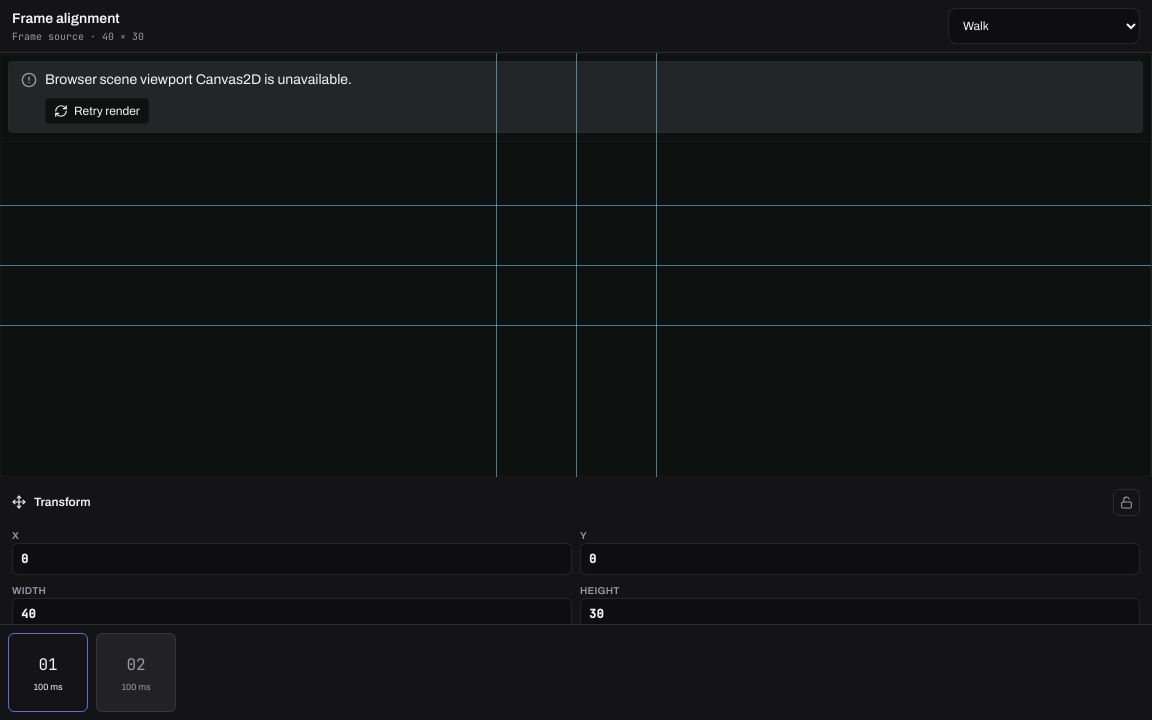
Scenario: AnimateFrameWorkspace › locks transform controls while keeping unlock available
This screenshot has width=1152, height=720.
Click the button named "Lock frame" at (1126, 502), box left=1113, top=488, right=1140, bottom=516
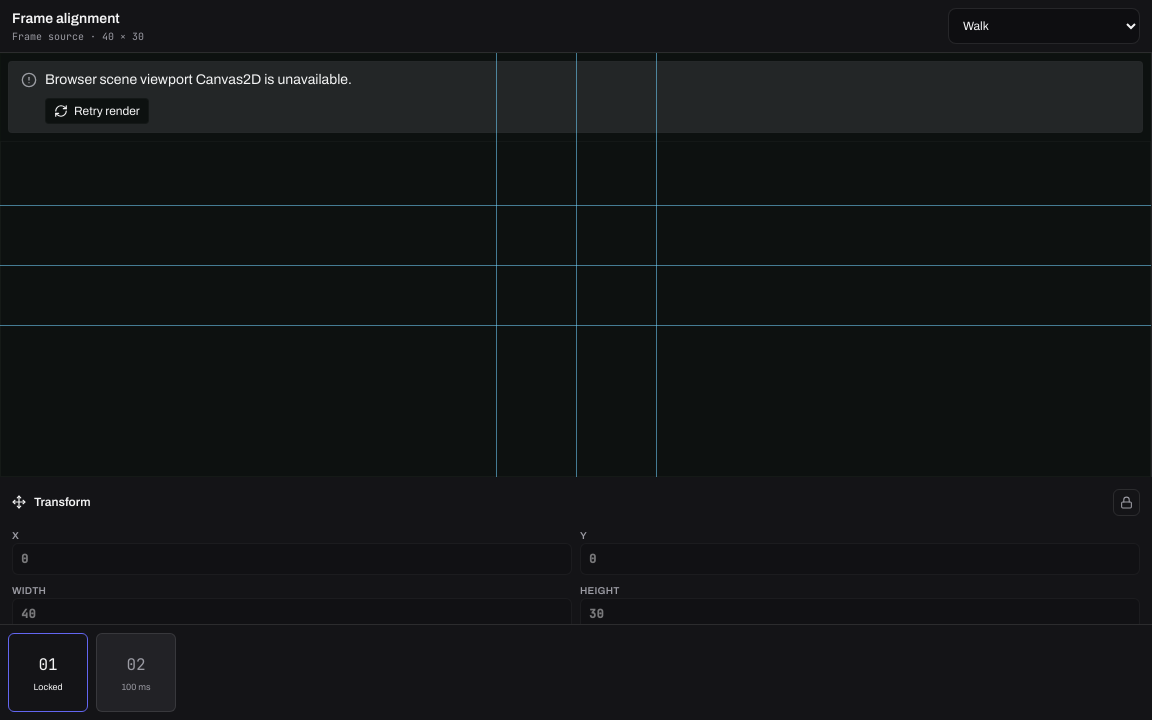
Expected: the number field labelled "X" is disabled, left=12, top=542, right=572, bottom=574
